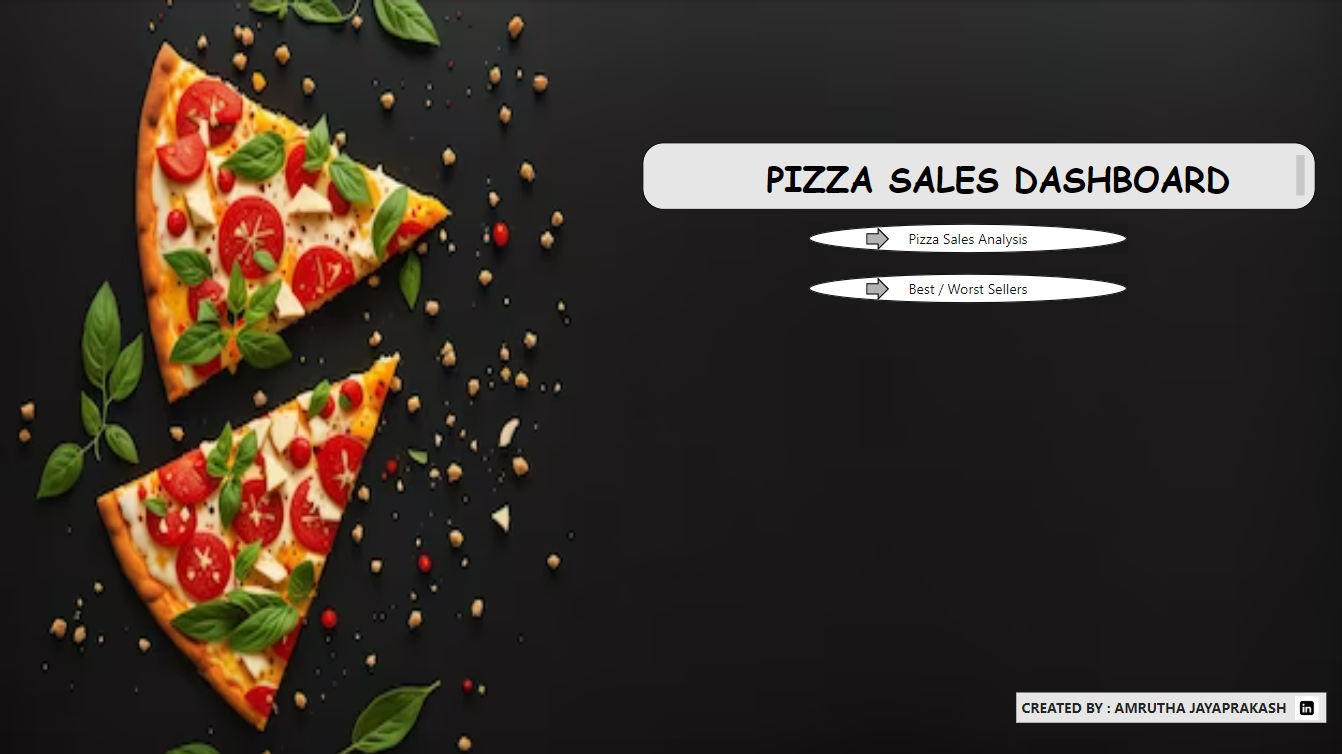

The page's visual inventory and layout, read from the dashboard file:
{"tool":"powerbi","page":{"name":"HOME","canvas":[1280,720],"ordinal":0},"visuals":[{"type":"textbox","box":[611.5,135.1,640.4,63.9],"z":0},{"type":"pageNavigator","box":[769.4,213.5,303.9,28.9],"z":1000},{"type":"shape","box":[824.9,217.1,21.7,21.7],"z":2000},{"type":"pageNavigator","box":[769.4,260.5,303.9,28.9],"z":3000},{"type":"shape","box":[824.9,264.1,21.7,21.7],"z":4000},{"type":"textbox","box":[967.2,659.7,295.5,28.9],"z":5000},{"type":"image","box":[1227.7,658.5,32.6,32.6],"z":6000}]}

Visuals, with their boxes in screenshot pixels (x1, y1, x2, y2), scaled from the page's 1280x720 canvas onto the 1342x754 screenshot:
textbox: bbox(641, 141, 1313, 208)
pageNavigator: bbox(807, 224, 1125, 254)
shape: bbox(865, 227, 888, 250)
pageNavigator: bbox(807, 273, 1125, 303)
shape: bbox(865, 277, 888, 299)
textbox: bbox(1014, 691, 1324, 721)
image: bbox(1287, 690, 1321, 724)
